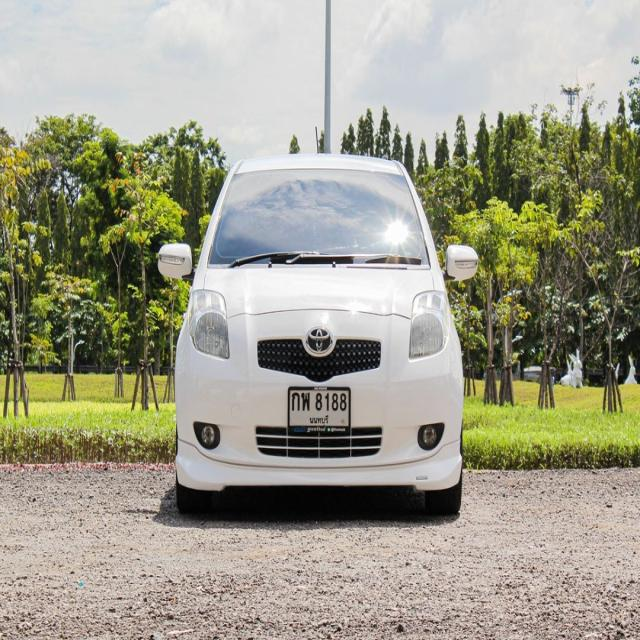license_plate: (284, 378, 353, 442)
